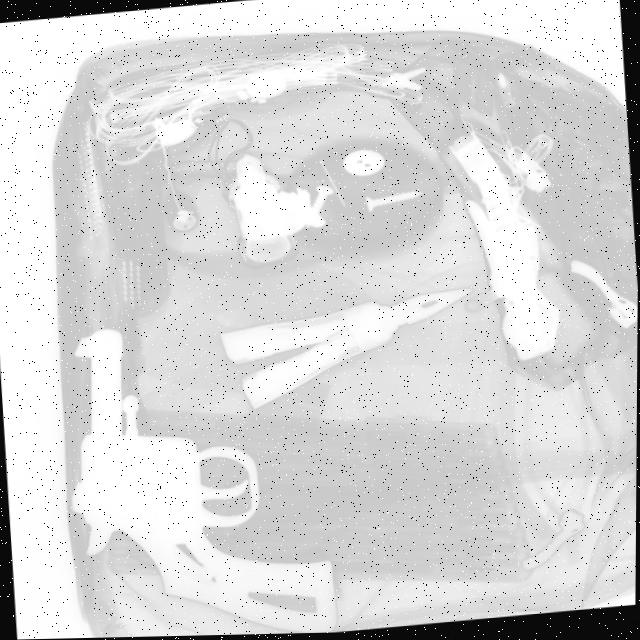knife: (238, 265, 480, 419)
pistol: (61, 308, 343, 639)
